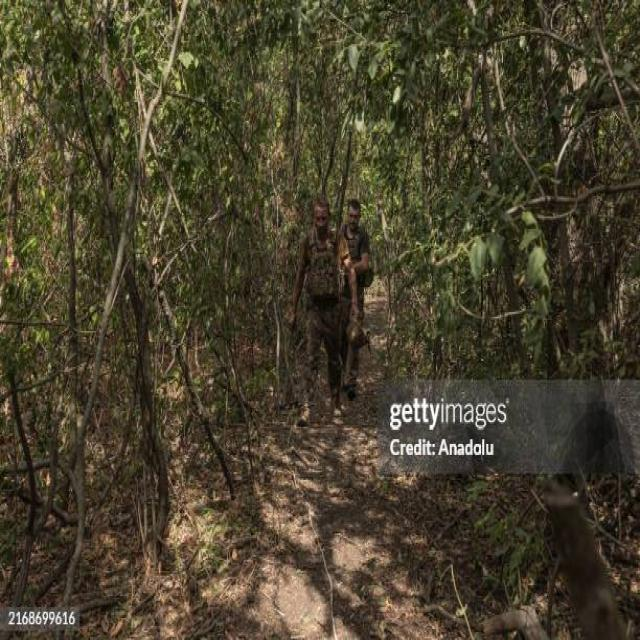Forest: (0, 0, 640, 640)
Militant: (291, 174, 360, 453), (336, 192, 399, 396)
